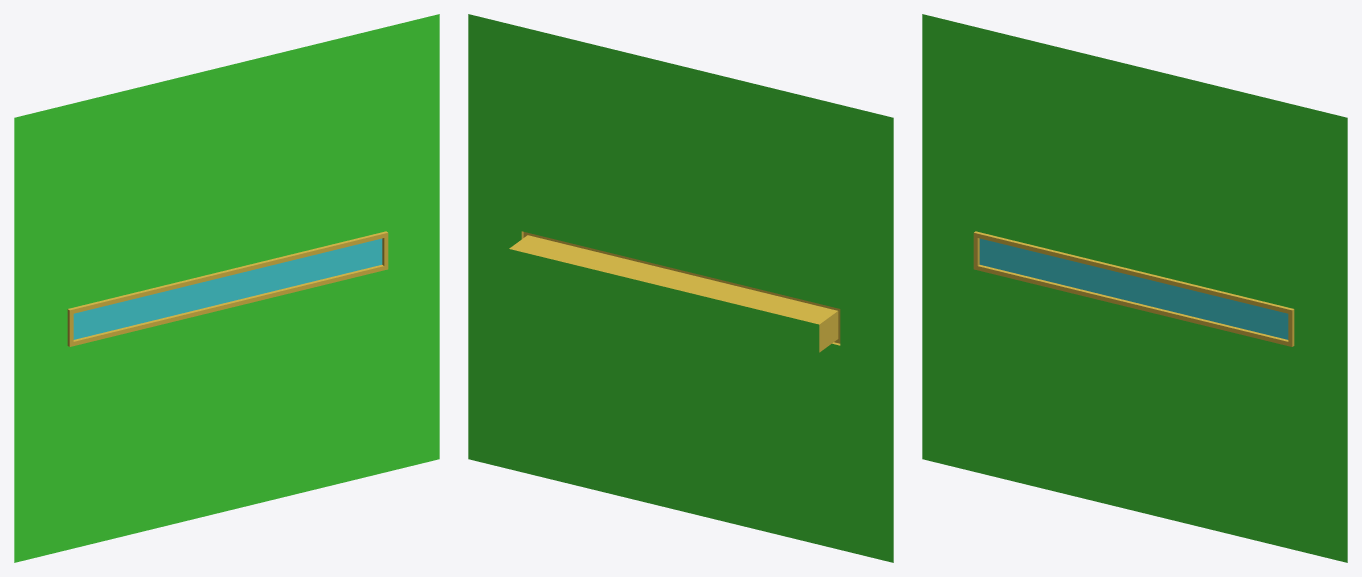
The model's file is Wall_54_B.fbx.
3 views of the same model, side by side, from view 1: azimuth 30°, elevation 25°; view 2: azimuth 150°, elevation 25°; view 3: azimuth 330°, elevation 25° (orthographic).
Visible parts, largest first — view 1: Wall_54_B; view 2: Wall_54_B; view 3: Wall_54_B.
Part boxes in pixels (x1,y1,x2,y2): Wall_54_B: [14, 14, 439, 562]; Wall_54_B: [468, 14, 893, 562]; Wall_54_B: [922, 14, 1347, 562].
Bounding box in the file's own units: 457 × 457 × 34.93.
